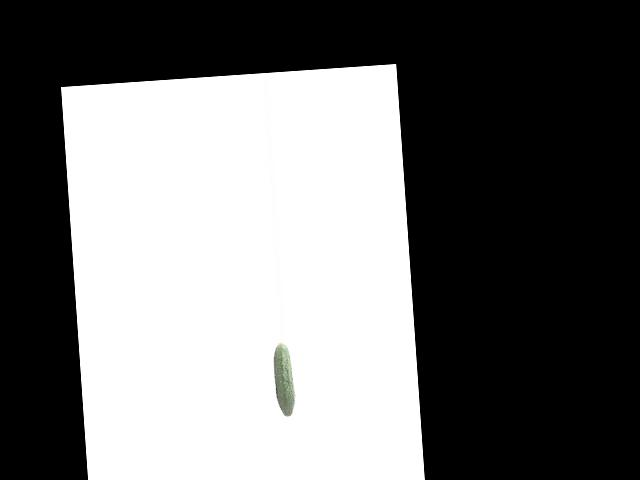cucumber: (272, 342, 295, 417)
